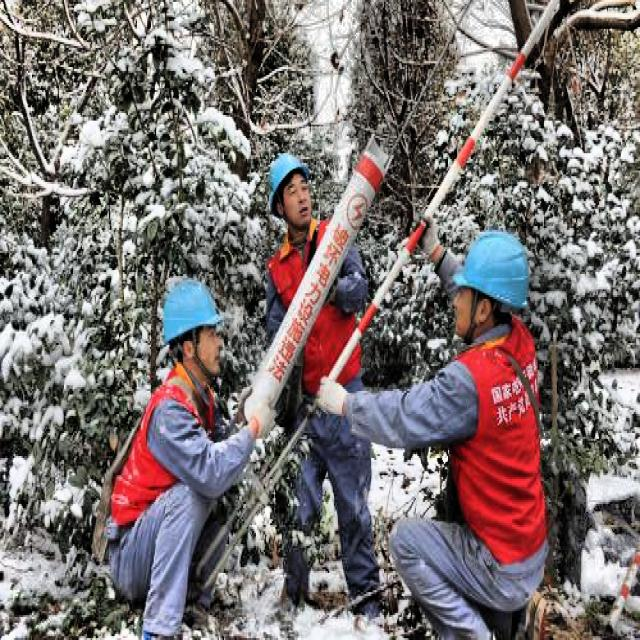helmet: (447, 224, 530, 351), (155, 272, 230, 387), (259, 144, 321, 234)
